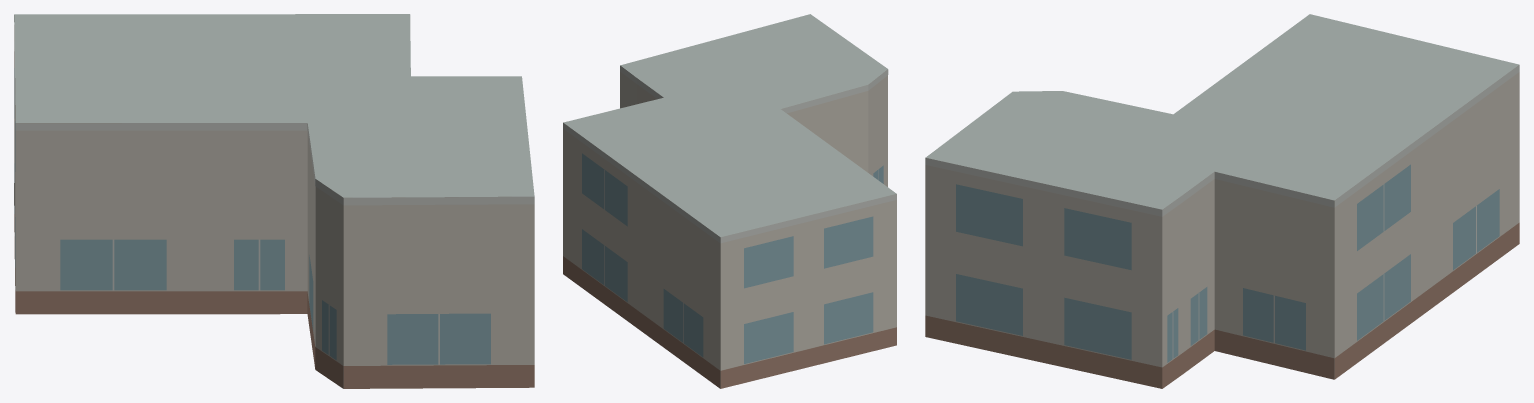
File: survey-upis-32723856.glb
The picture shows the model from 3 angles, left to right: view 1: azimuth 30°, elevation 25°; view 2: azimuth 150°, elevation 25°; view 3: azimuth 270°, elevation 25°; orthographic projection. The views are drawn at different scales.
Visible parts, largest first — view 1: survey-upis-32723856.tmp; view 2: survey-upis-32723856.tmp; view 3: survey-upis-32723856.tmp.
Boxes of the visible parts, x1=… form: survey-upis-32723856.tmp: x1=14, y1=14, x2=534, y2=388; survey-upis-32723856.tmp: x1=563, y1=14, x2=896, y2=388; survey-upis-32723856.tmp: x1=925, y1=14, x2=1519, y2=388.
Bounding box in the file's own units: 14.29 × 6.1 × 18.34.
